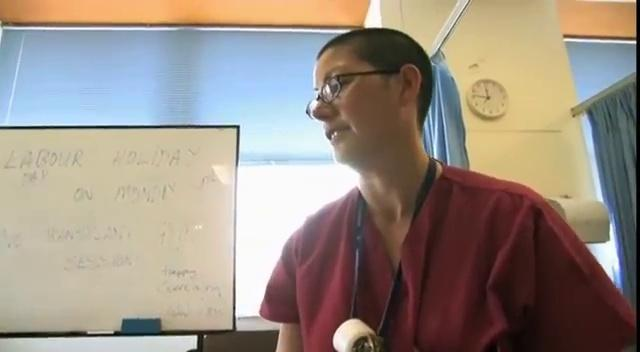doctor: (258, 26, 636, 350)
